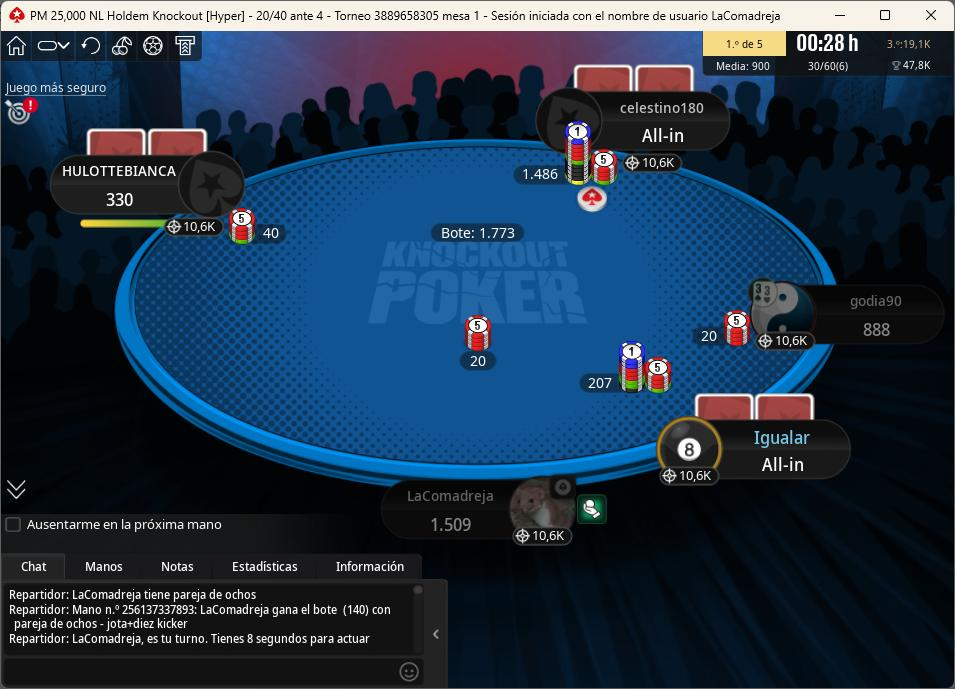Dealer: (567, 183, 617, 218)
HiddenCards: (692, 393, 824, 424), (84, 133, 219, 161), (575, 68, 704, 96)
Player: (743, 283, 947, 351), (649, 422, 851, 489), (49, 151, 248, 215), (541, 93, 732, 157)
PlayerBet: (508, 127, 628, 190), (574, 339, 684, 404), (686, 308, 760, 353), (231, 209, 296, 247)
PlayerChips: (760, 454, 817, 476), (859, 322, 902, 343), (101, 192, 144, 210)
Pot: (428, 225, 529, 245)
PrincipalPlayer: (381, 480, 589, 552)
PrincipalPlayerChips: (422, 517, 485, 537)
SmallBigBlind: (246, 4, 333, 26)
TablePot: (454, 314, 522, 382)
